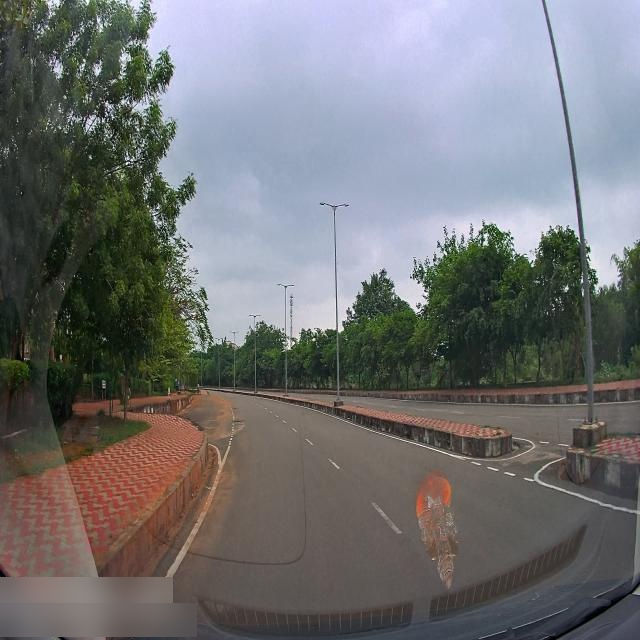pothole: (232, 416, 246, 427), (230, 403, 242, 412)
